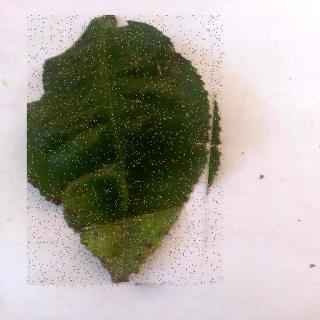Brown Blight: (29, 17, 225, 288)
